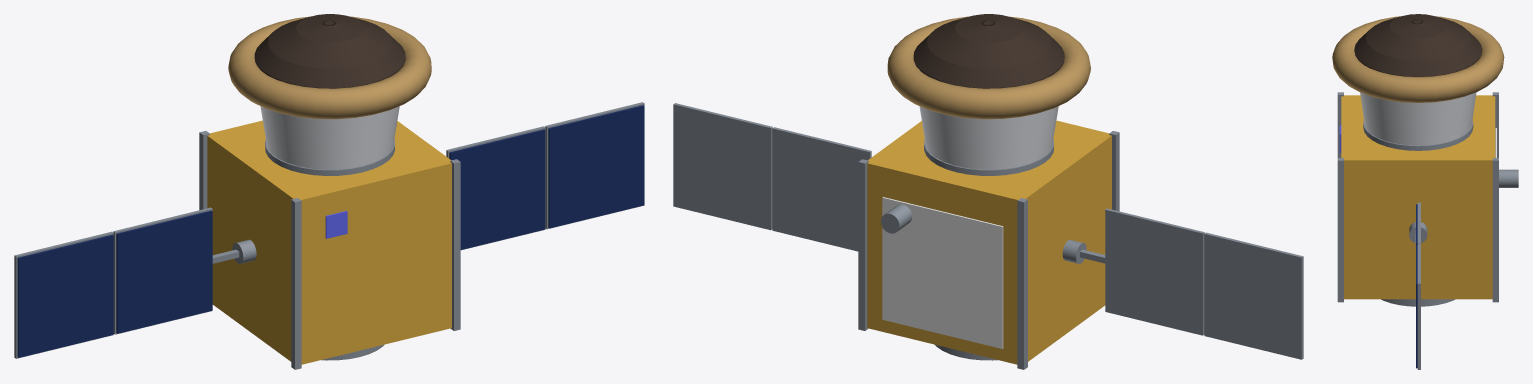
File: SP-AMR.glb
3 views of the same model, side by side, from view 1: azimuth 30°, elevation 25°; view 2: azimuth 150°, elevation 25°; view 3: azimuth 270°, elevation 25° (orthographic). The views are drawn at different scales.
Visible parts, largest first — view 1: service_module_structure, solar_panel_-X1, solar_panel_-X2, solar_panel_+X2, solar_panel_+X1, nose, heat_shield_packed, capsule_backshell, corner_rail_-X-Y, corner_rail_+X-Y, panel_frame_+X2, separation_interface (+5 smaller); view 2: service_module_structure, radiator_+Y_face, panel_frame_-X1, panel_frame_+X2, panel_frame_-X2, panel_frame_+X1, nose, heat_shield_packed, capsule_backshell, corner_rail_-X+Y, corner_rail_+X+Y, separation_interface (+2 smaller); view 3: service_module_structure, nose, heat_shield_packed, capsule_backshell, corner_rail_+X-Y, corner_rail_+X+Y, separation_interface, panel_frame_+X2, launch_separation_ring, star_tracker, corner_rail_-X-Y, corner_rail_-X+Y (+3 smaller).
Part boxes in pixels (bbox=[...]): service_module_structure: bbox=[207, 120, 451, 364]; solar_panel_-X1: bbox=[116, 210, 212, 333]; solar_panel_-X2: bbox=[17, 234, 113, 357]; solar_panel_+X2: bbox=[548, 105, 644, 228]; solar_panel_+X1: bbox=[449, 129, 545, 249]; nose: bbox=[254, 14, 405, 88]; heat_shield_packed: bbox=[228, 16, 431, 119]; capsule_backshell: bbox=[260, 106, 399, 169]; corner_rail_-X-Y: bbox=[291, 198, 301, 369]; corner_rail_+X-Y: bbox=[450, 159, 460, 330]; panel_frame_+X2: bbox=[545, 102, 644, 229]; separation_interface: bbox=[265, 139, 394, 175]; service_module_structure: bbox=[867, 120, 1111, 364]; radiator_+Y_face: bbox=[882, 197, 1003, 348]; panel_frame_-X1: bbox=[1105, 208, 1204, 335]; panel_frame_+X2: bbox=[673, 103, 772, 230]; panel_frame_-X2: bbox=[1204, 232, 1303, 359]; panel_frame_+X1: bbox=[772, 127, 871, 251]; nose: bbox=[913, 14, 1064, 88]; heat_shield_packed: bbox=[887, 16, 1090, 119]; capsule_backshell: bbox=[919, 106, 1058, 169]; corner_rail_-X+Y: bbox=[1017, 198, 1027, 369]; corner_rail_+X+Y: bbox=[858, 159, 868, 330]; separation_interface: bbox=[924, 139, 1053, 175]; service_module_structure: bbox=[1341, 95, 1495, 299]; nose: bbox=[1354, 14, 1482, 76]; heat_shield_packed: bbox=[1332, 16, 1504, 102]; capsule_backshell: bbox=[1360, 92, 1476, 145]; corner_rail_+X-Y: bbox=[1337, 158, 1343, 302]; corner_rail_+X+Y: bbox=[1492, 158, 1498, 302]; separation_interface: bbox=[1363, 120, 1473, 150]; panel_frame_+X2: bbox=[1417, 243, 1420, 369]; launch_separation_ring: bbox=[1381, 299, 1455, 306]; star_tracker: bbox=[1499, 169, 1518, 187]; corner_rail_-X-Y: bbox=[1337, 92, 1343, 157]; corner_rail_-X+Y: bbox=[1492, 92, 1498, 157].
Size of the model in its own units: 2.35 by 1.12 by 0.716.
